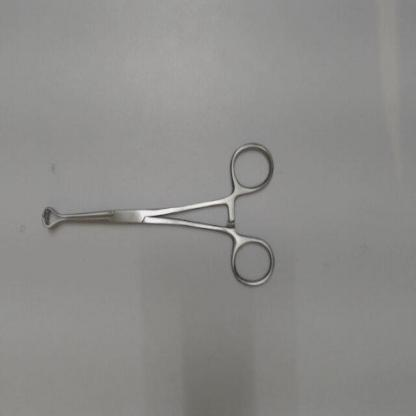Babcock Tissue Forceps: (36, 135, 279, 290)
